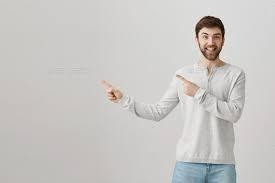Point-Left: (174, 73, 202, 97), (100, 79, 125, 105)
